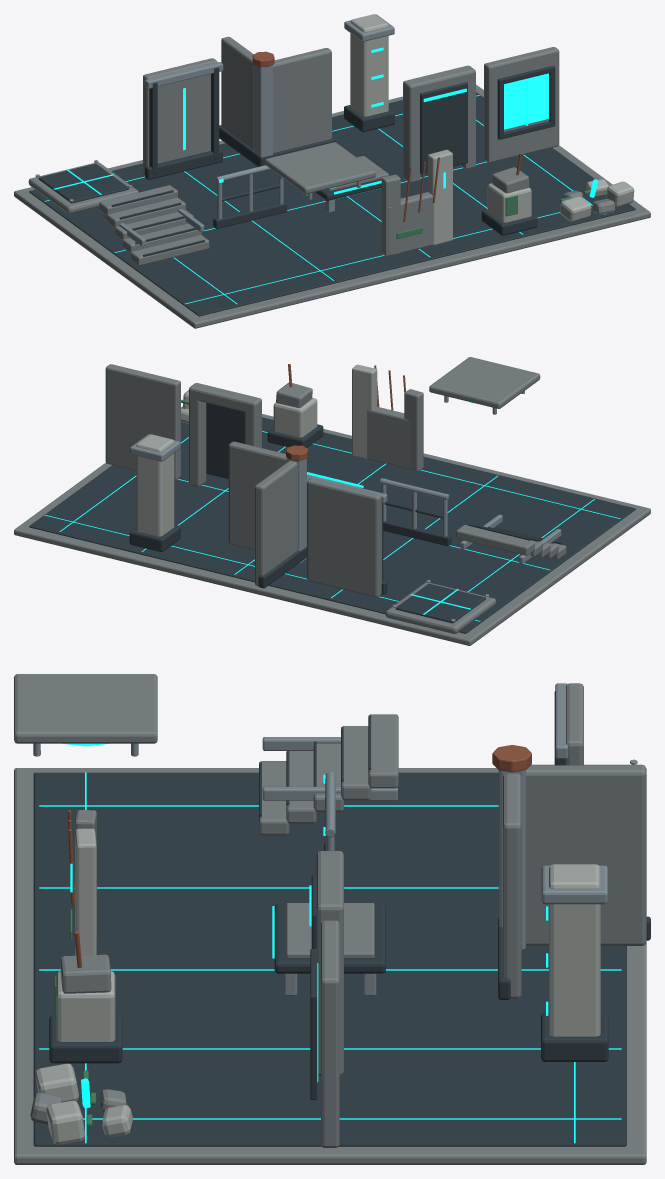
File: Environment_Modular_Kit_Roster.glb
The picture shows the model from 3 angles, top to bottom: view 1: azimuth 30°, elevation 25°; view 2: azimuth 150°, elevation 25°; view 3: azimuth 270°, elevation 25°; orthographic projection. The views are drawn at different scales.
Parts seen in each view (by area): view 1: Environment_Display_Inset, Environment_Kit_Display_Floor, CornerWall_A, Wall_StoneBody, Window_WallPanel, Ceiling_Slab, DoorFrame_InnerMetal, Pillar_StoneCore, CornerWall_B, Window_Glass, FloorTile_MetalInset, BrokenWall_Lower (+26 smaller); view 2: Environment_Display_Inset, Environment_Kit_Display_Floor, Wall_StoneBody, Window_WallPanel, CornerWall_B, CornerWall_A, Ceiling_Slab, Pillar_StoneCore, BrokenWall_Lower, DoorFrame_InnerMetal, FloorTile_MetalInset, BrokenWall_TallChunk (+15 smaller); view 3: Environment_Display_Inset, Environment_Kit_Display_Floor, CornerWall_B, Ceiling_Slab, Pillar_StoneCore, Window_WallPanel, CornerWall_A, BrokenPillar_Base, Platform_StoneInset, BrokenWall_TallChunk, Platform_Deck, Stair_Step_4 (+26 smaller).
Boxes of the visible parts, <box> form: Environment_Display_Inset: <box>29,92,635,316</box>; Environment_Kit_Display_Floor: <box>14,84,650,328</box>; CornerWall_A: <box>273,48,331,152</box>; Wall_StoneBody: <box>143,58,217,175</box>; Window_WallPanel: <box>484,47,559,162</box>; Ceiling_Slab: <box>265,142,375,194</box>; DoorFrame_InnerMetal: <box>420,82,467,173</box>; Pillar_StoneCore: <box>350,14,388,116</box>; CornerWall_B: <box>221,36,253,149</box>; Window_Glass: <box>504,73,548,129</box>; FloorTile_MetalInset: <box>38,164,128,203</box>; BrokenWall_Lower: <box>388,192,433,256</box>; Environment_Display_Inset: <box>29,417,635,633</box>; Environment_Kit_Display_Floor: <box>14,406,650,645</box>; Wall_StoneBody: <box>307,478,381,597</box>; Window_WallPanel: <box>105,364,180,480</box>; CornerWall_B: <box>255,460,297,586</box>; CornerWall_A: <box>228,441,287,550</box>; Ceiling_Slab: <box>429,357,540,408</box>; Pillar_StoneCore: <box>136,434,174,536</box>; BrokenWall_Lower: <box>367,406,410,468</box>; DoorFrame_InnerMetal: <box>206,402,244,478</box>; FloorTile_MetalInset: <box>395,583,485,623</box>; BrokenWall_TallChunk: <box>352,364,377,458</box>; Environment_Display_Inset: <box>33,772,626,1146</box>; Environment_Kit_Display_Floor: <box>14,768,646,1164</box>; CornerWall_B: <box>526,765,646,945</box>; Ceiling_Slab: <box>14,674,157,743</box>; Pillar_StoneCore: <box>549,864,600,1036</box>; Window_WallPanel: <box>321,920,339,1147</box>; CornerWall_A: <box>503,773,521,998</box>; BrokenPillar_Base: <box>56,971,115,1041</box>; Platform_StoneInset: <box>286,903,374,958</box>; BrokenWall_TallChunk: <box>75,828,96,955</box>; Platform_Deck: <box>274,904,385,973</box>; Stair_Step_4: <box>368,714,398,788</box>.
Bounding box in the file's own units: 12.8 × 3.14 × 8.86.
